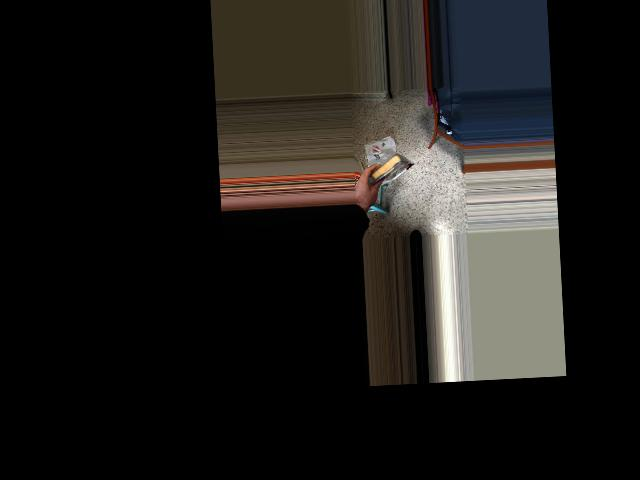cheese: (355, 151, 415, 190)
